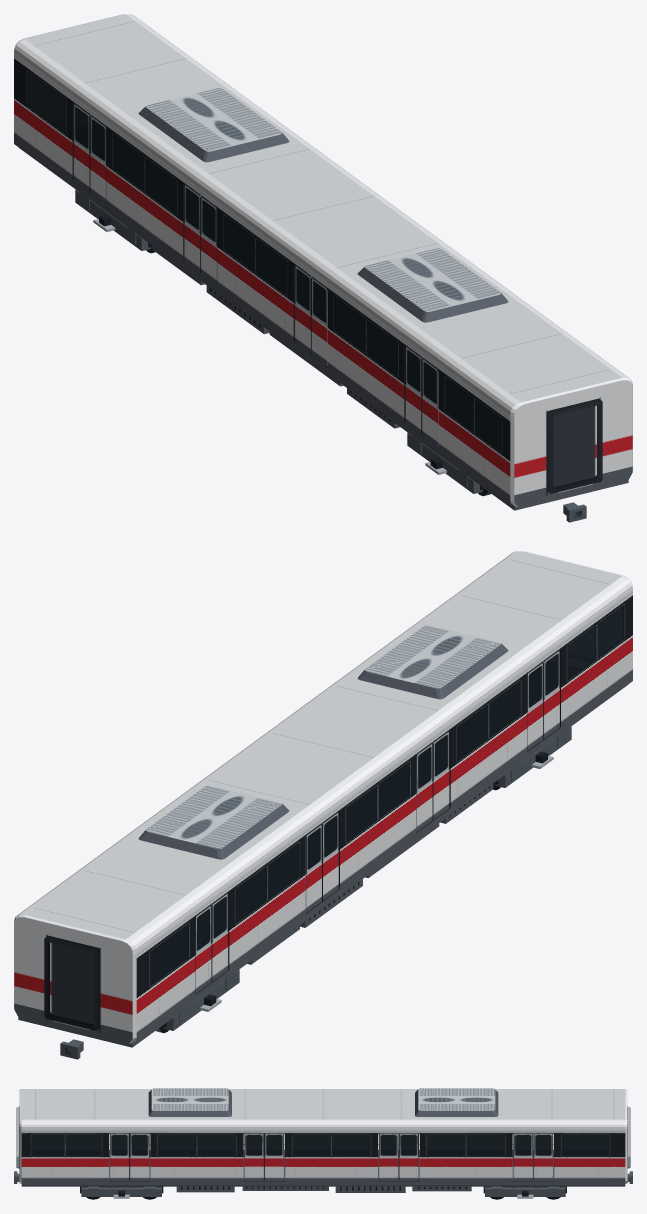
The model's file is c151-intermediate.glb.
The picture shows the model from 3 angles, top to bottom: view 1: azimuth 30°, elevation 25°; view 2: azimuth 150°, elevation 25°; view 3: azimuth 270°, elevation 25°; orthographic projection. The views are drawn at different scales.
Visible parts, largest first — view 1: Body_Shell, Glass_Windows, Roof_AC_2, Roof_AC_1, Door_L3_Leaf_B, Door_L2_Leaf_A, Door_L2_Leaf_B, Door_L1_Leaf_A, Door_L1_Leaf_B, Door_L3_Leaf_A, Door_L4_Leaf_B, Door_L4_Leaf_A (+2 smaller); view 2: Body_Shell, Glass_Windows, Roof_AC_1, Roof_AC_2, Door_L2_Leaf_B, Door_L1_Leaf_A, Door_L4_Leaf_A, Door_L1_Leaf_B, Door_L2_Leaf_A, Door_L3_Leaf_A, Door_L3_Leaf_B, Door_L4_Leaf_B (+2 smaller); view 3: Body_Shell, Glass_Windows, Roof_AC_1, Roof_AC_2, Bogie_Rear, Bogie_Front, Door_R1_Leaf_A, Door_R1_Leaf_B, Door_R3_Leaf_A, Door_R3_Leaf_B, Door_R4_Leaf_A, Door_R4_Leaf_B (+2 smaller).
Part boxes in pixels (x1,y1,x2,y2): Body_Shell: [14, 14, 632, 522]; Glass_Windows: [28, 73, 501, 451]; Roof_AC_2: [357, 248, 508, 322]; Roof_AC_1: [138, 88, 289, 162]; Door_L3_Leaf_B: [294, 265, 311, 353]; Door_L2_Leaf_A: [200, 196, 217, 284]; Door_L2_Leaf_B: [184, 184, 200, 272]; Door_L1_Leaf_A: [90, 115, 106, 204]; Door_L1_Leaf_B: [73, 103, 90, 191]; Door_L3_Leaf_A: [311, 277, 327, 365]; Door_L4_Leaf_B: [405, 346, 421, 434]; Door_L4_Leaf_A: [422, 358, 438, 446]; Body_Shell: [14, 551, 632, 1059]; Glass_Windows: [150, 606, 623, 984]; Roof_AC_1: [138, 785, 289, 859]; Roof_AC_2: [357, 625, 508, 699]; Door_L2_Leaf_B: [305, 824, 322, 912]; Door_L1_Leaf_A: [211, 892, 228, 981]; Door_L4_Leaf_A: [543, 649, 559, 738]; Door_L1_Leaf_B: [195, 905, 211, 993]; Door_L2_Leaf_A: [322, 811, 338, 900]; Door_L3_Leaf_A: [432, 731, 449, 819]; Door_L3_Leaf_B: [416, 743, 432, 831]; Door_L4_Leaf_B: [527, 662, 543, 750]; Body_Shell: [14, 1089, 632, 1192]; Glass_Windows: [32, 1135, 608, 1155]; Roof_AC_1: [415, 1088, 498, 1116]; Roof_AC_2: [148, 1088, 231, 1116]; Bogie_Rear: [483, 1186, 566, 1199]; Bogie_Front: [80, 1186, 163, 1199]; Door_R1_Leaf_A: [513, 1133, 533, 1180]; Door_R1_Leaf_B: [533, 1133, 553, 1180]; Door_R3_Leaf_A: [244, 1133, 264, 1180]; Door_R3_Leaf_B: [264, 1133, 284, 1180]; Door_R4_Leaf_A: [109, 1133, 129, 1180]; Door_R4_Leaf_B: [129, 1133, 149, 1180].
Size of the model in its own units: 3.2 by 3.7 by 23.
Materials: 3 (3 with a texture image).
